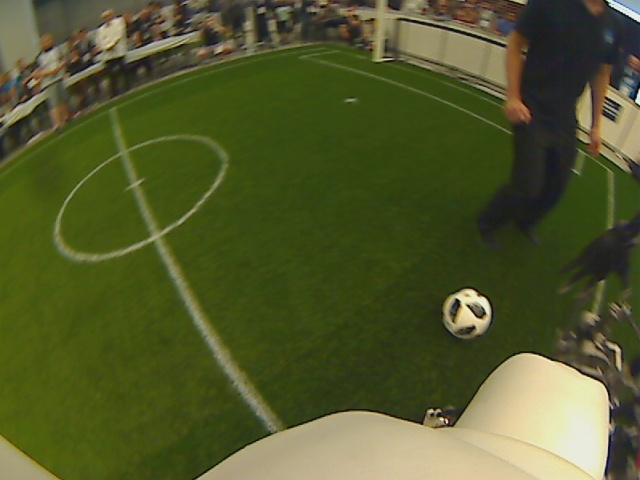ball: (441, 287, 494, 339)
